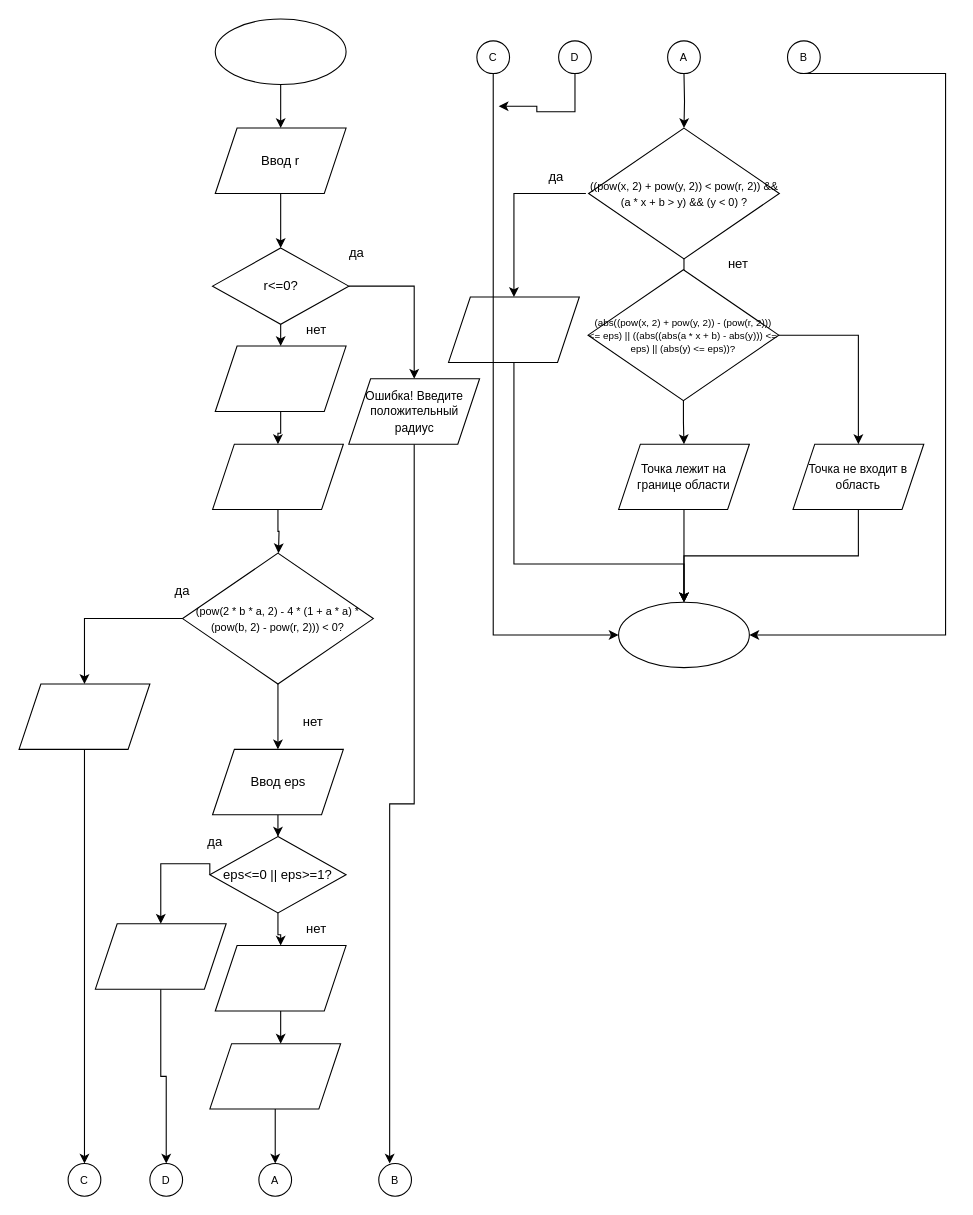
This 973x1215 diagram has some shape labels left out. Each missing label, with the centre of its shape:
"Ввод a" goes at point 280,378.
"Ввод b" goes at point 277,476.
"Ввод x" goes at point 280,977.
"Ввод y" goes at point 275,1076.
"Конец" goes at point 683,634.
"Начало" goes at point 280,51.
"Ошибка! Неверно введена погрешность, требуется от 0 до 1" goes at point 160,956.
"Прямая не пересекает окружность" goes at point 84,716.
"Точка входит в область" goes at point 513,329.
